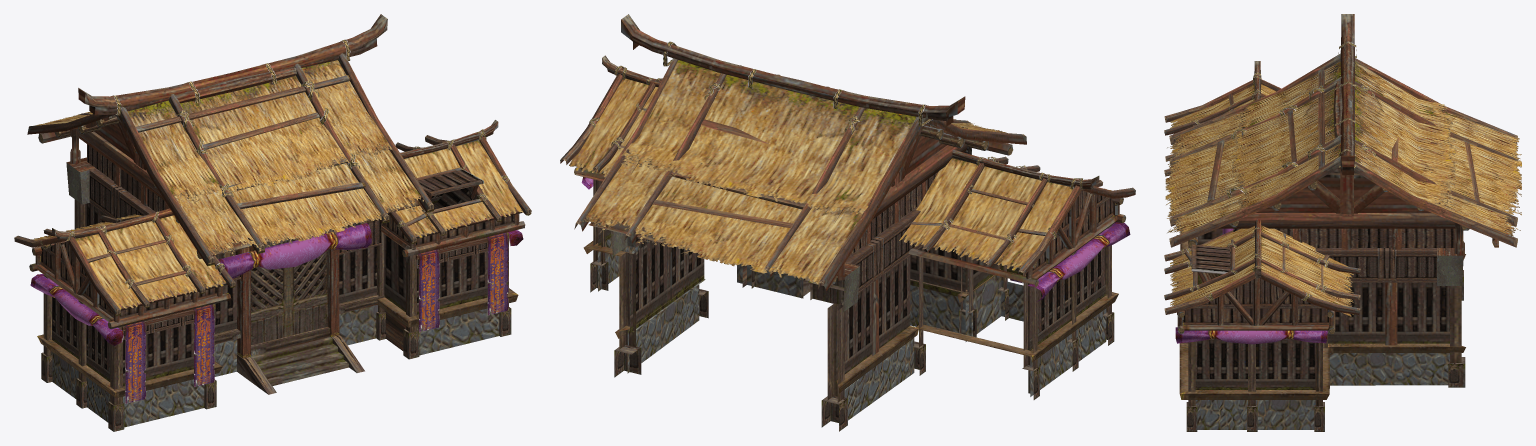
File: Item_3002_jianzhu_caofang02.FBX
The picture shows the model from 3 angles, left to right: view 1: azimuth 30°, elevation 25°; view 2: azimuth 150°, elevation 25°; view 3: azimuth 270°, elevation 25°; orthographic projection. The views are drawn at different scales.
Parts seen in each view (by area): view 1: Item_3002_jianzhu_caofang02; view 2: Item_3002_jianzhu_caofang02; view 3: Item_3002_jianzhu_caofang02.
Boxes of the visible parts, bbox=[...] form: Item_3002_jianzhu_caofang02: bbox=[14, 14, 531, 431]; Item_3002_jianzhu_caofang02: bbox=[560, 14, 1135, 431]; Item_3002_jianzhu_caofang02: bbox=[1164, 14, 1521, 431].
Bounding box in the file's own units: 1267 × 922 × 729.
Materials: 1 (1 with a texture image).
